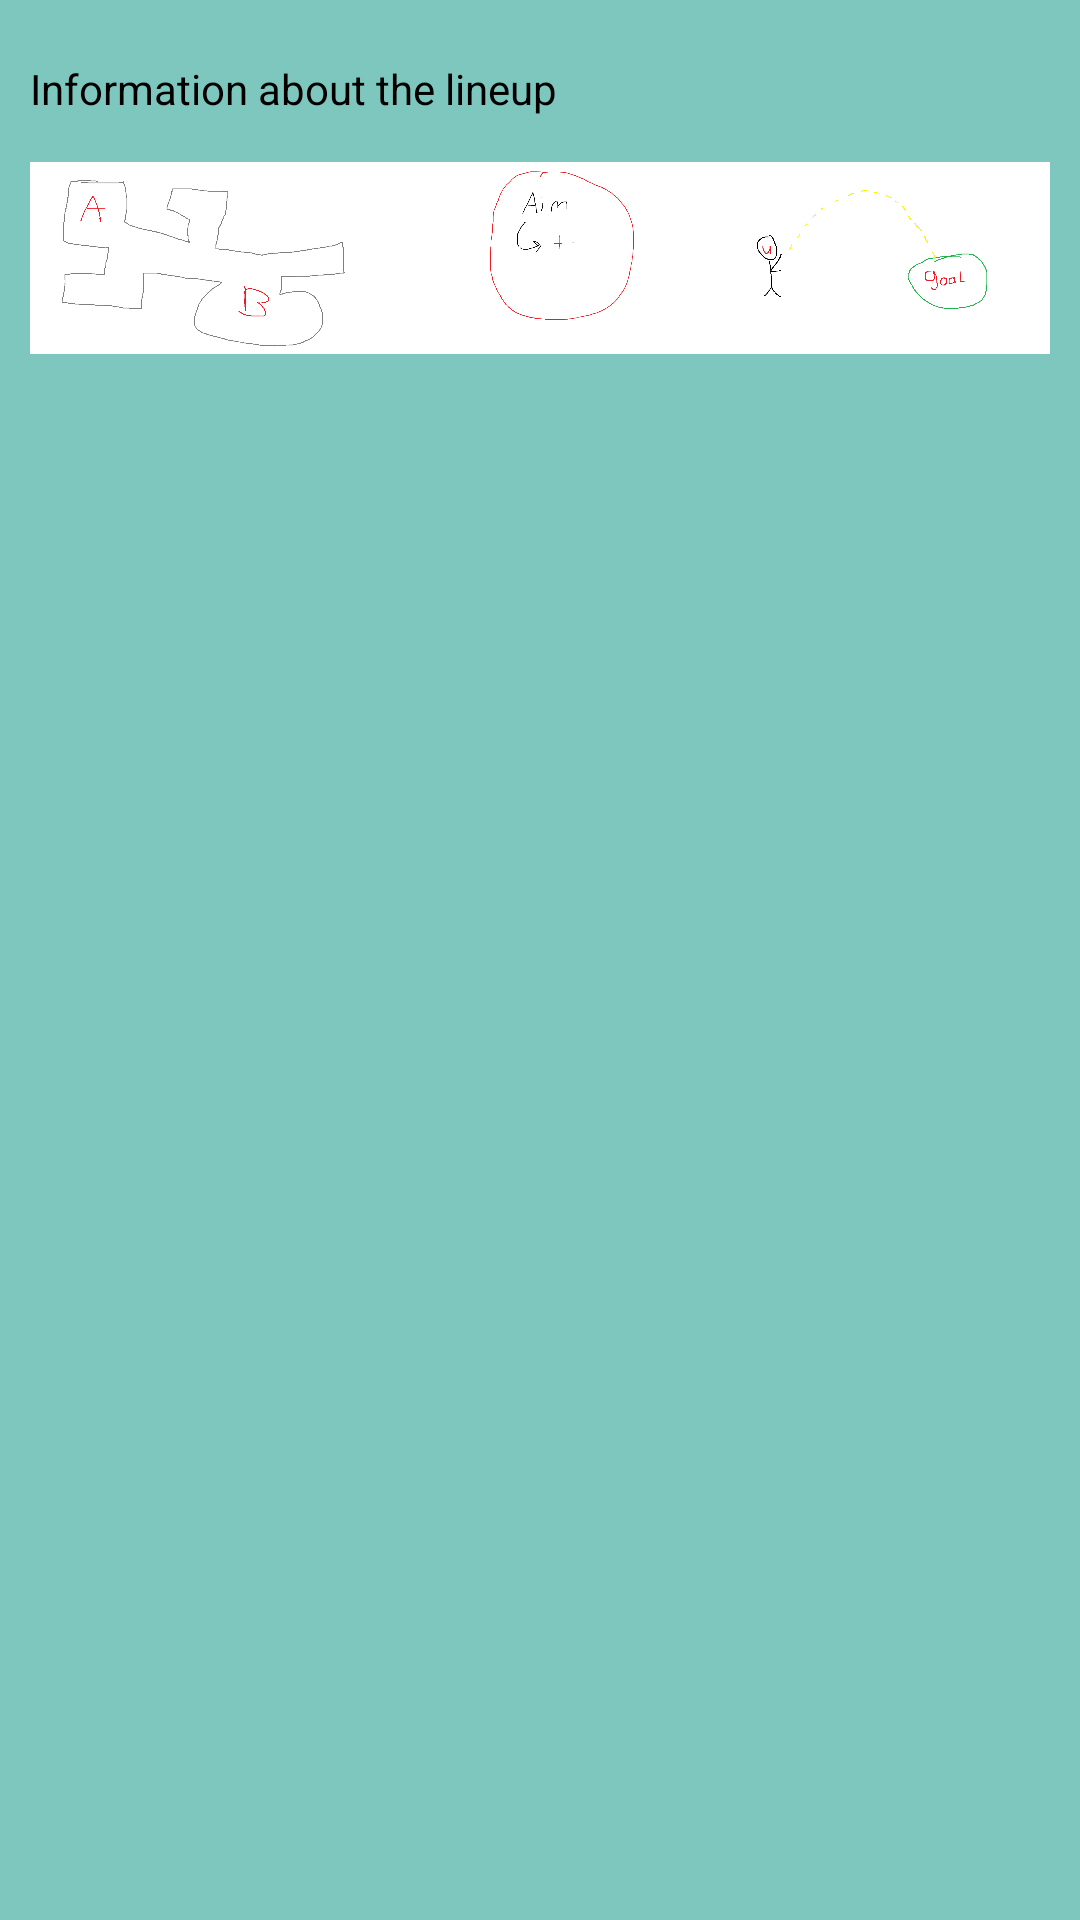

Screen size 1080 × 1920. Icon name, then its center in pixels as (x,y):
map: (200,258)
